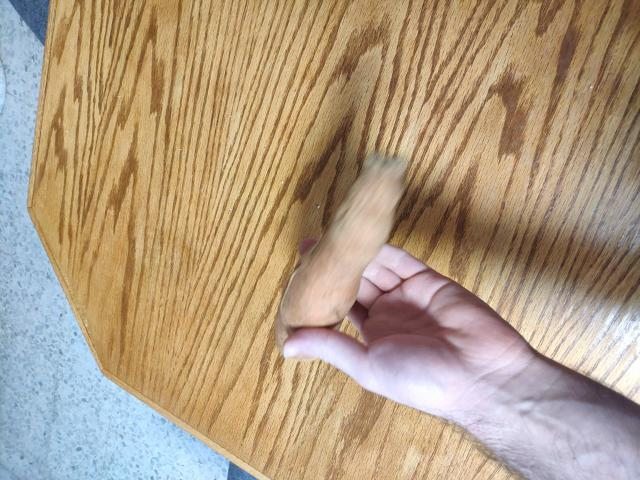sweet_potato: (272, 144, 422, 366)
